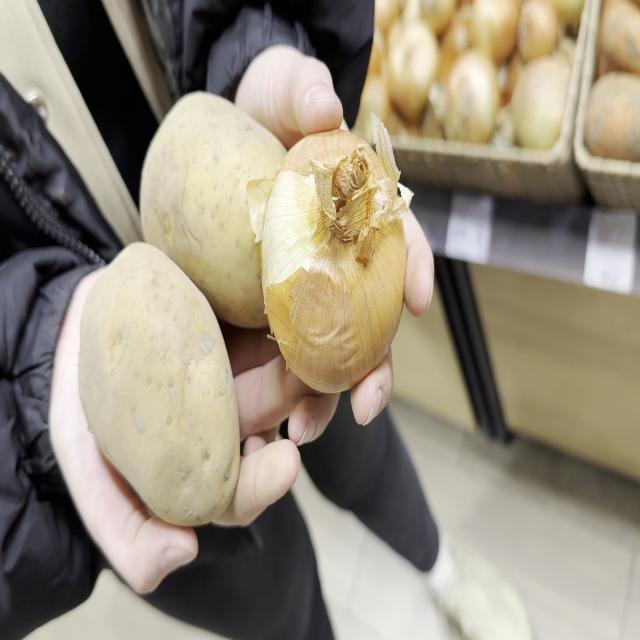potato: (79, 243, 240, 525), (140, 93, 286, 329)
